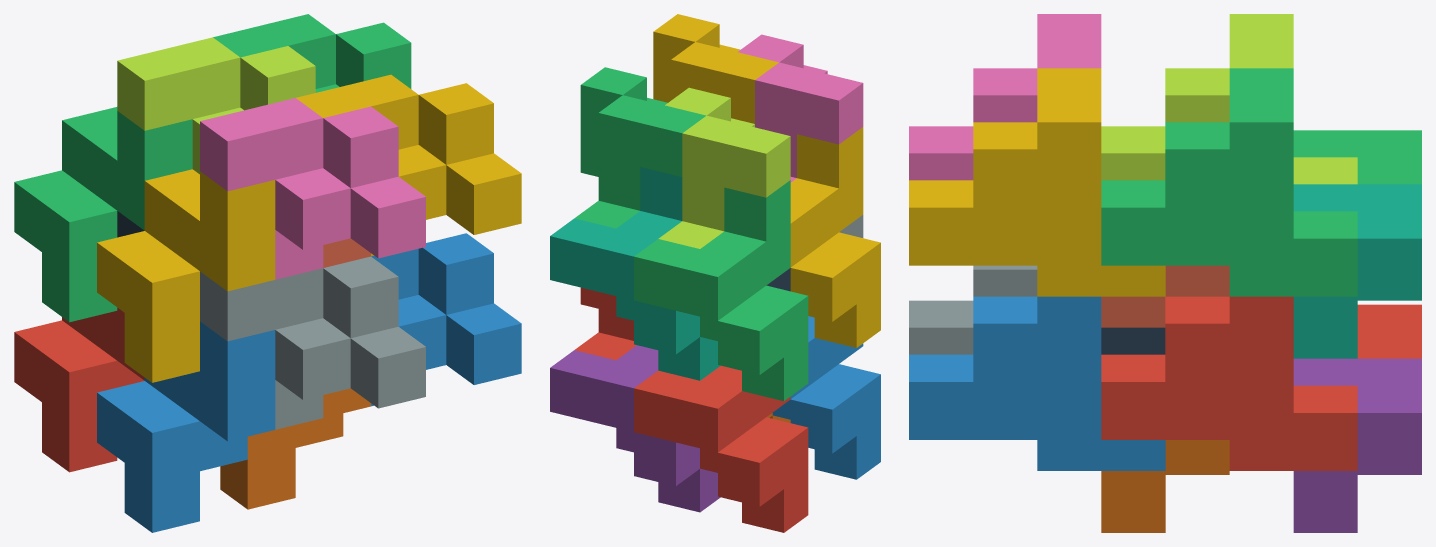
File: tiling.obj
The picture shows the model from 3 angles, left to right: view 1: azimuth 30°, elevation 25°; view 2: azimuth 150°, elevation 25°; view 3: azimuth 270°, elevation 25°; orthographic projection. The views are drawn at different scales.
Parts seen in each view (by area): view 1: copy_2_domain_4, copy_1_domain_4, copy_2_domain_2, copy_1_domain_2, copy_1_domain_3, copy_2_domain_8, copy_2_domain_6, copy_2_domain_3, copy_1_domain_1, copy_2_domain_7, copy_1_domain_6, copy_1_domain_8; view 2: copy_1_domain_3, copy_1_domain_1, copy_1_domain_4, copy_1_domain_7, copy_2_domain_7, copy_1_domain_5, copy_2_domain_3, copy_1_domain_2, copy_2_domain_4, copy_2_domain_8, copy_2_domain_5; view 3: copy_2_domain_7, copy_2_domain_8, copy_2_domain_5, copy_2_domain_6, copy_1_domain_7, copy_1_domain_5, copy_2_domain_3, copy_2_domain_4, copy_1_domain_6, copy_2_domain_2, copy_1_domain_3, copy_1_domain_8 (+2 smaller).
Boxes of the visible parts, box(x1,y1,x2,y2) form: copy_2_domain_4: box(200, 98, 425, 279); copy_1_domain_4: box(97, 169, 275, 382); copy_2_domain_2: box(200, 256, 425, 429); copy_1_domain_2: box(97, 321, 275, 532); copy_1_domain_3: box(14, 107, 192, 322); copy_2_domain_8: box(296, 74, 521, 256); copy_2_domain_6: box(371, 233, 521, 406); copy_2_domain_3: box(117, 37, 315, 174); copy_1_domain_1: box(14, 307, 144, 472); copy_2_domain_7: box(213, 14, 411, 92); copy_1_domain_6: box(220, 388, 370, 509); copy_1_domain_8: box(323, 238, 370, 267); copy_1_domain_3: box(634, 180, 808, 400); copy_1_domain_1: box(634, 365, 808, 532); copy_1_domain_4: box(790, 127, 880, 347); copy_1_domain_7: box(550, 167, 720, 380); copy_2_domain_7: box(574, 67, 705, 228); copy_1_domain_5: box(550, 345, 720, 512); copy_2_domain_3: box(658, 87, 790, 248); copy_1_domain_2: box(772, 316, 880, 479); copy_2_domain_4: box(737, 34, 863, 182); copy_2_domain_8: box(653, 14, 778, 123); copy_2_domain_5: box(574, 287, 636, 360); copy_2_domain_7: box(1101, 68, 1357, 296); copy_2_domain_8: box(909, 68, 1165, 296); copy_2_domain_5: box(1101, 296, 1357, 470); copy_2_domain_6: box(909, 296, 1165, 470); copy_1_domain_7: box(1293, 184, 1421, 358); copy_1_domain_5: box(1293, 358, 1421, 532); copy_2_domain_3: box(1101, 14, 1357, 184); copy_2_domain_4: box(909, 14, 1101, 180); copy_1_domain_6: box(1101, 440, 1229, 532); copy_2_domain_2: box(909, 265, 1037, 354); copy_1_domain_3: box(1293, 130, 1421, 184); copy_1_domain_8: box(1101, 265, 1229, 327).
Bounding box in the file's own units: 6 × 8 × 8.
